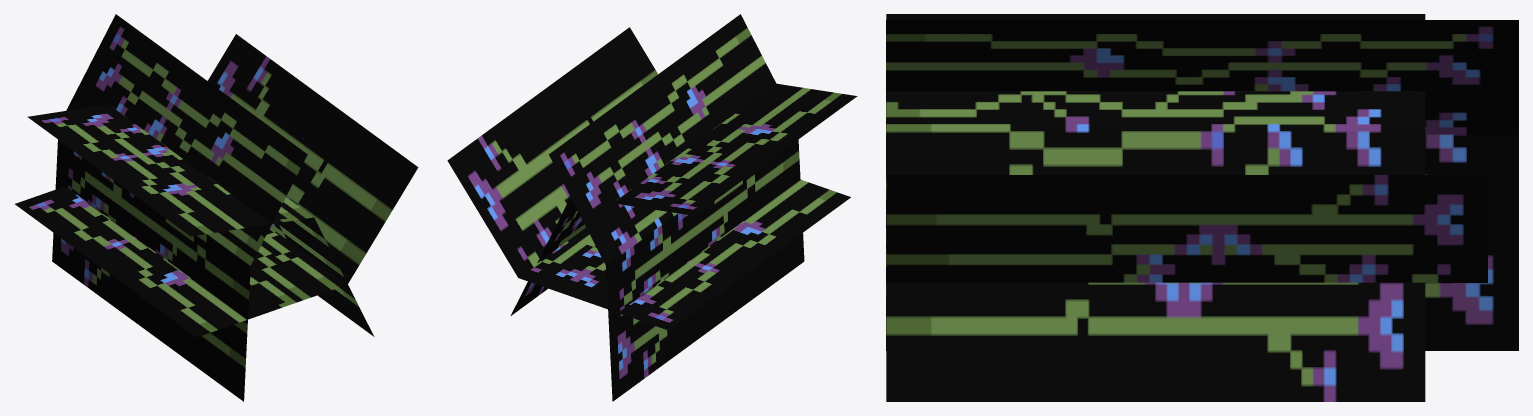
The model's file is FlowerBush1.fbx.
The picture shows the model from 3 angles, left to right: view 1: azimuth 30°, elevation 25°; view 2: azimuth 150°, elevation 25°; view 3: azimuth 270°, elevation 25°; orthographic projection. The views are drawn at different scales.
Parts seen in each view (by area): view 1: FlowerBush1; view 2: FlowerBush1; view 3: FlowerBush1.
Boxes of the visible parts, x1,y1,x2,y2 form: FlowerBush1: [15, 14, 418, 401]; FlowerBush1: [447, 14, 857, 401]; FlowerBush1: [886, 14, 1518, 401].
Bounding box in the file's own units: 68.54 × 66.67 × 100.
